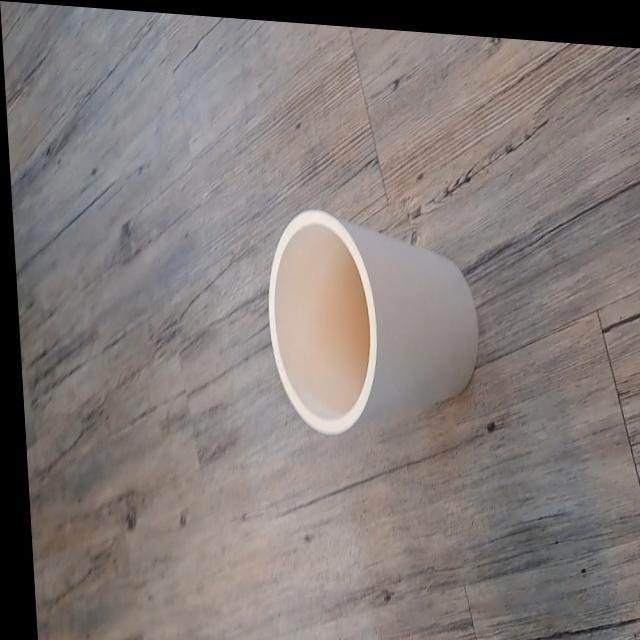CORAL: (237, 132, 507, 480)
